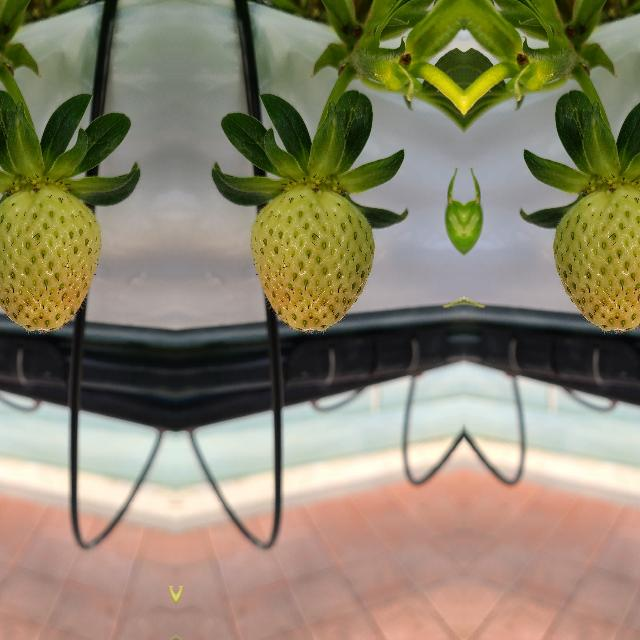Health_50: (250, 184, 372, 330), (0, 183, 100, 330), (553, 183, 640, 330)
